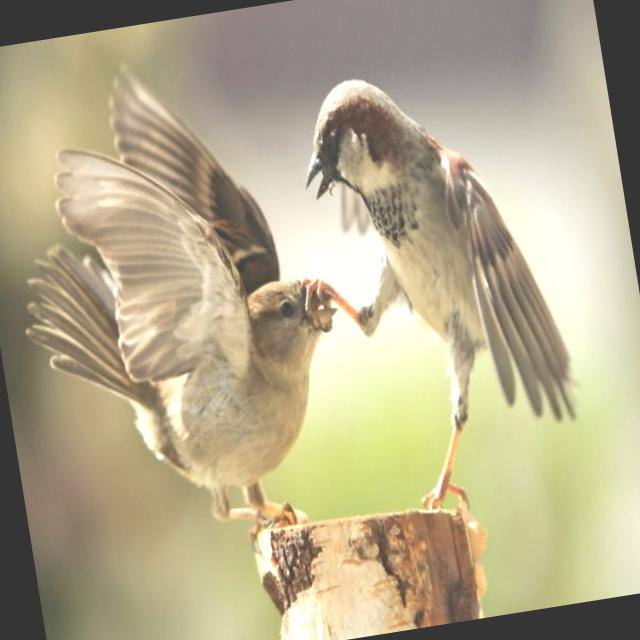bird: (0, 51, 370, 556), (287, 39, 594, 534)
